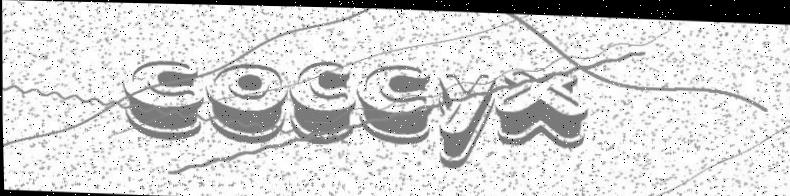c: (121, 57, 205, 140), (355, 60, 433, 144), (288, 56, 356, 143)
o: (204, 60, 289, 143)
x: (493, 65, 590, 147)
y: (433, 68, 495, 170)
